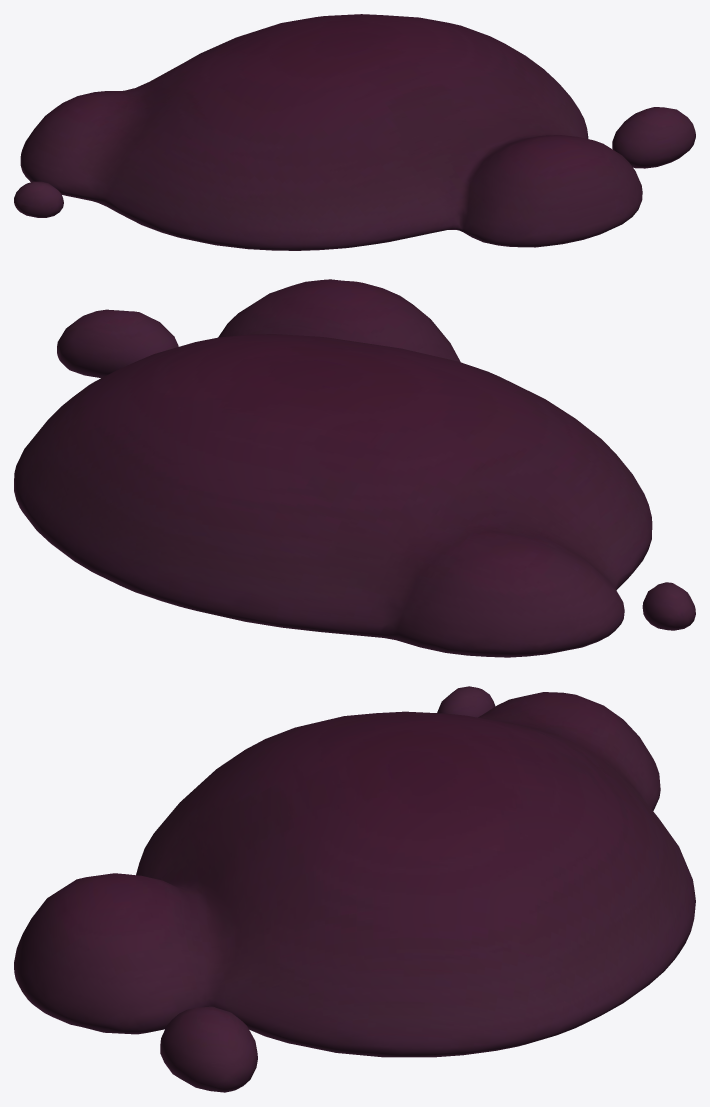
File: bog_puddle_c.glb
3 views of the same model, one above another, from view 1: azimuth 30°, elevation 25°; view 2: azimuth 150°, elevation 25°; view 3: azimuth 270°, elevation 25° (orthographic). The views are drawn at different scales.
Visible parts, largest first — view 1: SM_XBOG_DRS_PoisonPuddle_01C; view 2: SM_XBOG_DRS_PoisonPuddle_01C; view 3: SM_XBOG_DRS_PoisonPuddle_01C.
Part boxes in pixels (box(x1,y1,x2,y2)): SM_XBOG_DRS_PoisonPuddle_01C: box(14, 14, 695, 250); SM_XBOG_DRS_PoisonPuddle_01C: box(14, 279, 695, 657); SM_XBOG_DRS_PoisonPuddle_01C: box(14, 686, 695, 1092).
Bounding box in the file's own units: 3.73 × 0.7098 × 2.8.
1 material, 1 textured.
